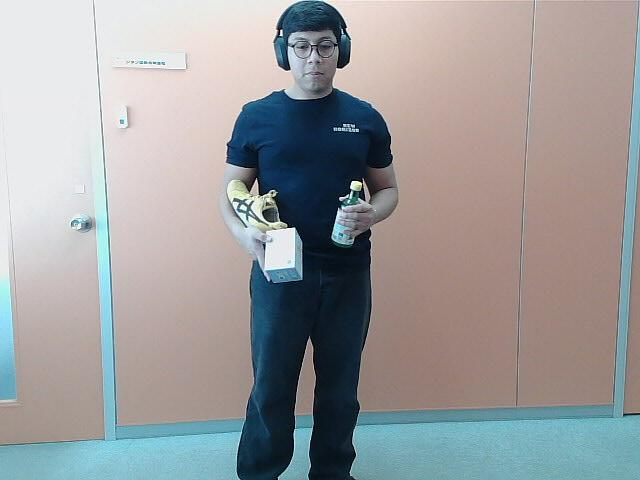Blind_box: (266, 228, 306, 284)
Lemon_sapporo: (332, 181, 362, 252)
Shoes: (227, 178, 289, 240)
